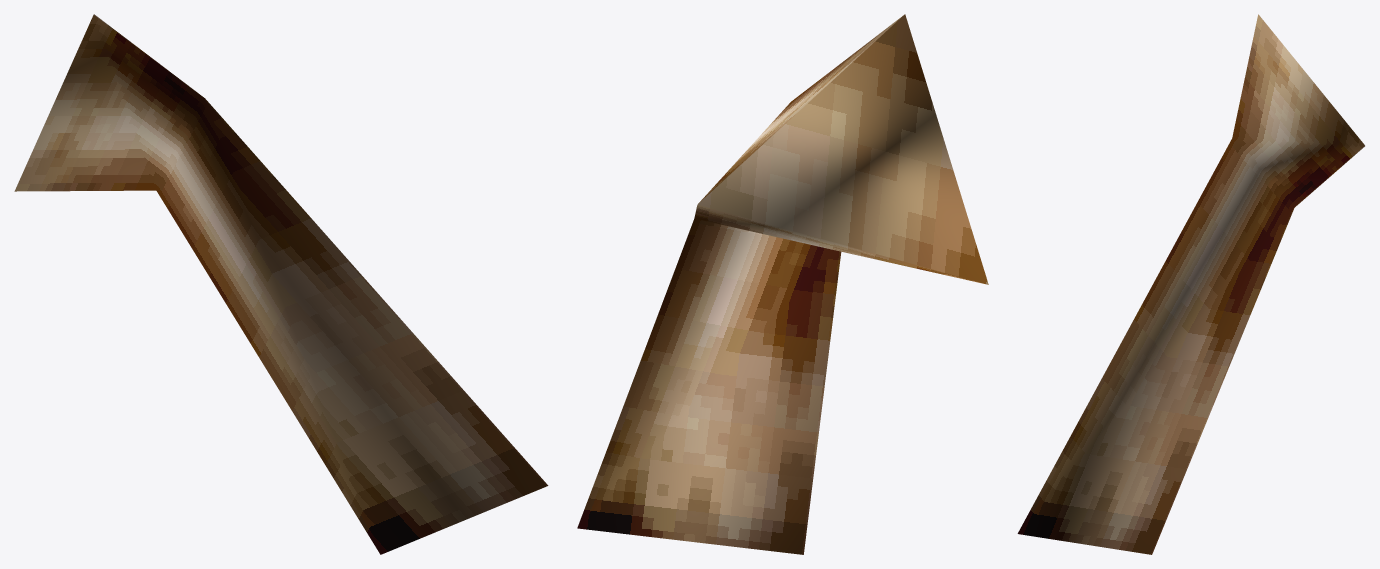
File: blastedlandsbone01.obj
3 renders of one model, left to right at view 1: azimuth 30°, elevation 25°; view 2: azimuth 150°, elevation 25°; view 3: azimuth 270°, elevation 25°, orthographic. The views are drawn at different scales.
Visible parts, largest first — view 1: blastedlandsbone01.m2; view 2: blastedlandsbone01.m2; view 3: blastedlandsbone01.m2.
Part boxes in pixels (x1=…): blastedlandsbone01.m2: x1=14, y1=14, x2=548, y2=554; blastedlandsbone01.m2: x1=577, y1=14, x2=988, y2=554; blastedlandsbone01.m2: x1=1017, y1=14, x2=1364, y2=554.
Bounding box in the file's own units: 0.3292 × 0.4137 × 0.2979.
1 material, 1 textured.
